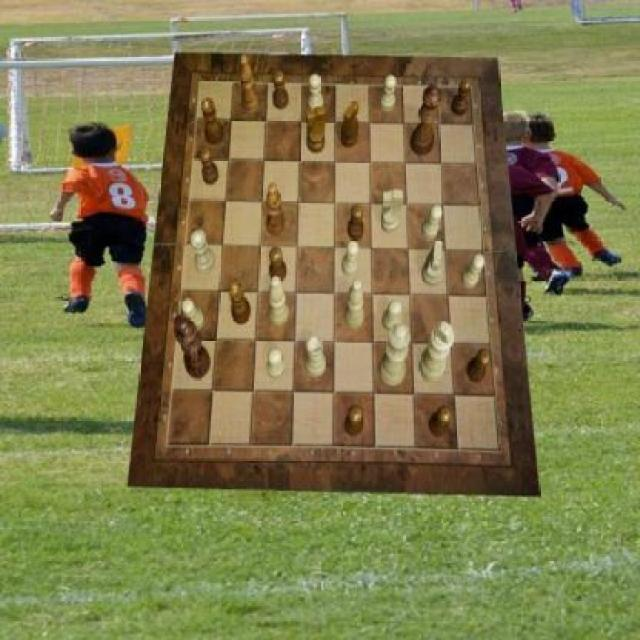bishop: (240, 54, 260, 112), (266, 183, 286, 237)
black-bishop: (174, 316, 211, 380)
black-king: (306, 106, 326, 154), (340, 100, 359, 148)
black-knight: (451, 77, 472, 115), (468, 348, 490, 382), (430, 406, 452, 439), (200, 146, 219, 184), (344, 405, 364, 437), (272, 71, 288, 111), (269, 248, 287, 282), (348, 203, 364, 241)
black-pawn: (411, 85, 443, 157)
black-queen: (202, 99, 226, 146), (229, 282, 252, 326)
black-rook: (269, 277, 290, 326), (344, 280, 364, 331)
white-bishop: (418, 320, 454, 382)
white-king: (380, 190, 403, 234), (422, 240, 442, 286)
white-knight: (462, 254, 486, 288), (183, 298, 206, 332), (422, 205, 442, 239), (343, 240, 360, 278), (380, 75, 397, 113), (383, 300, 403, 332), (308, 74, 324, 114), (268, 348, 285, 378)
white-pawn: (378, 323, 412, 385)
white-queen: (190, 231, 214, 276), (304, 337, 326, 377)
